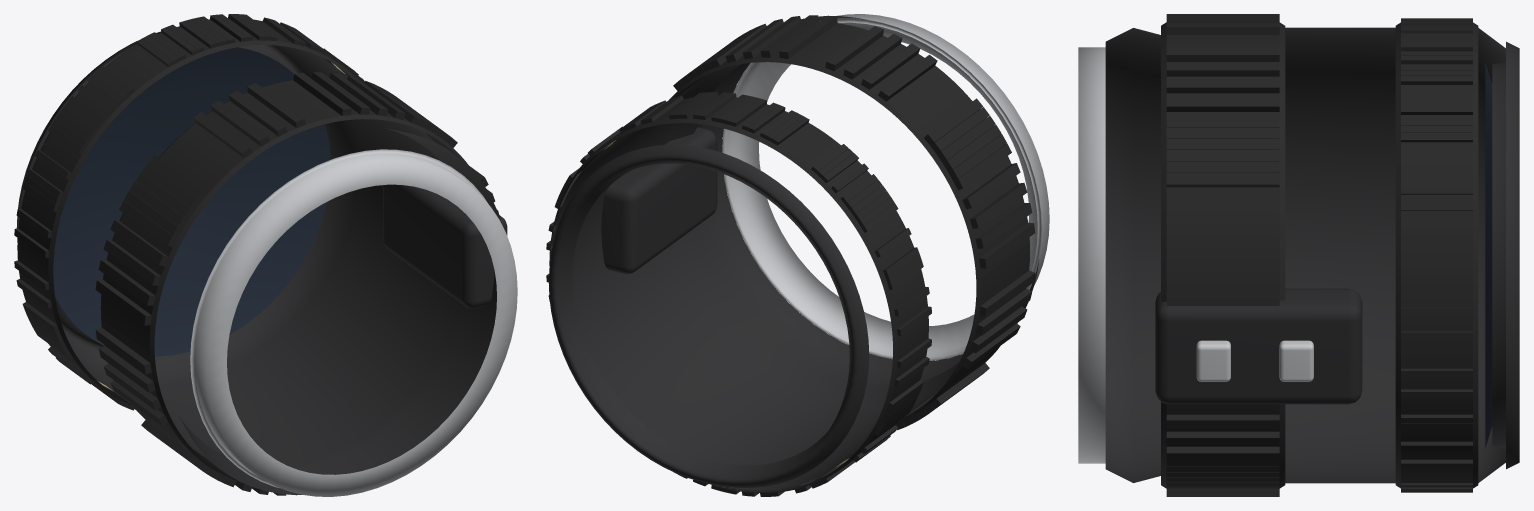
The model's file is lens-l1.glb.
The picture shows the model from 3 angles, left to right: view 1: azimuth 30°, elevation 25°; view 2: azimuth 150°, elevation 25°; view 3: azimuth 270°, elevation 25°; orthographic projection. The views are drawn at different scales.
Visible parts, largest first — view 1: Barrel, FrontGlass, ZoomRing0, LensMount, FocusRing1, SwitchPanel, FrontRim; view 2: Barrel, ZoomRing0, FocusRing1, FrontRim, LensMount, SwitchPanel; view 3: Barrel, ZoomRing0, FocusRing1, SwitchPanel, LensMount, FrontRim, FrontGlass, Switch1, Switch0.
Boxes of the visible parts, bbox=[...] form: Barrel: bbox=[65, 45, 501, 494]; FrontGlass: bbox=[53, 47, 330, 356]; ZoomRing0: bbox=[95, 72, 499, 495]; LensMount: bbox=[190, 149, 517, 496]; FocusRing1: bbox=[14, 14, 364, 410]; SwitchPanel: bbox=[383, 184, 507, 308]; FrontRim: bbox=[16, 31, 331, 359]; Barrel: bbox=[552, 16, 1039, 490]; ZoomRing0: bbox=[669, 15, 1035, 430]; FocusRing1: bbox=[546, 92, 931, 496]; FrontRim: bbox=[548, 144, 869, 487]; LensMount: bbox=[722, 14, 1049, 360]; SwitchPanel: bbox=[601, 127, 717, 273]; Barrel: bbox=[1105, 27, 1505, 483]; ZoomRing0: bbox=[1161, 14, 1285, 496]; FocusRing1: bbox=[1395, 18, 1478, 492]; SwitchPanel: bbox=[1155, 288, 1362, 404]; LensMount: bbox=[1078, 47, 1105, 463]; FrontRim: bbox=[1492, 41, 1519, 469]; FrontGlass: bbox=[1485, 62, 1492, 448]; Switch1: bbox=[1279, 340, 1313, 381]; Switch0: bbox=[1196, 340, 1230, 381].
Bounding box in the file's own units: 0.0723 × 0.0696 × 0.064.
